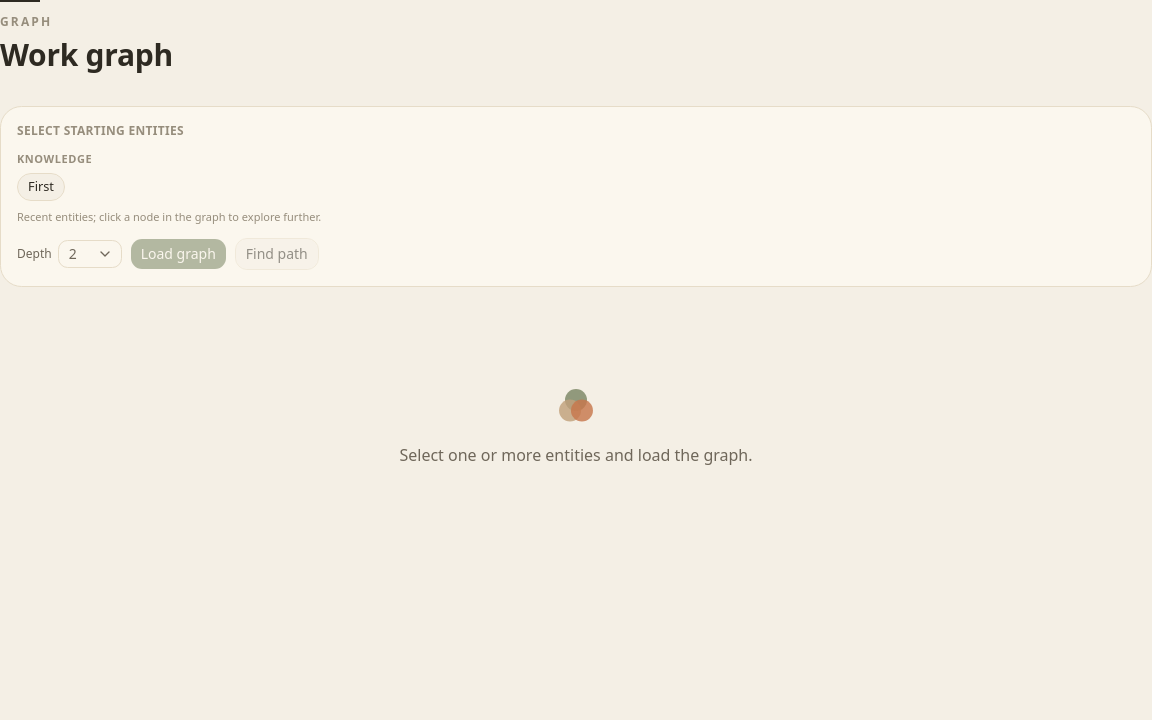
Scenario: Graph › renders the accessible neighbor table with node titles, not raw ids
Click the button "First": (41, 187) top-left (17, 173), bottom-right (65, 201)
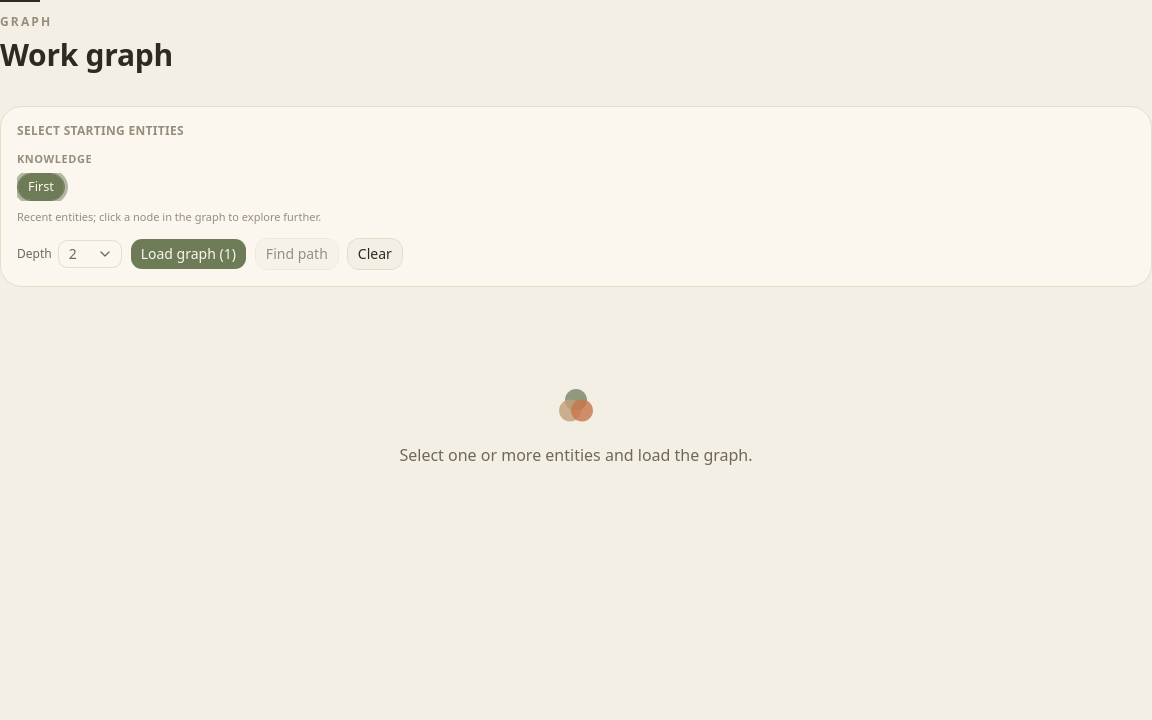
Click the button "Load graph (1)": (188, 254) top-left (130, 238), bottom-right (247, 270)
(page scrolled)
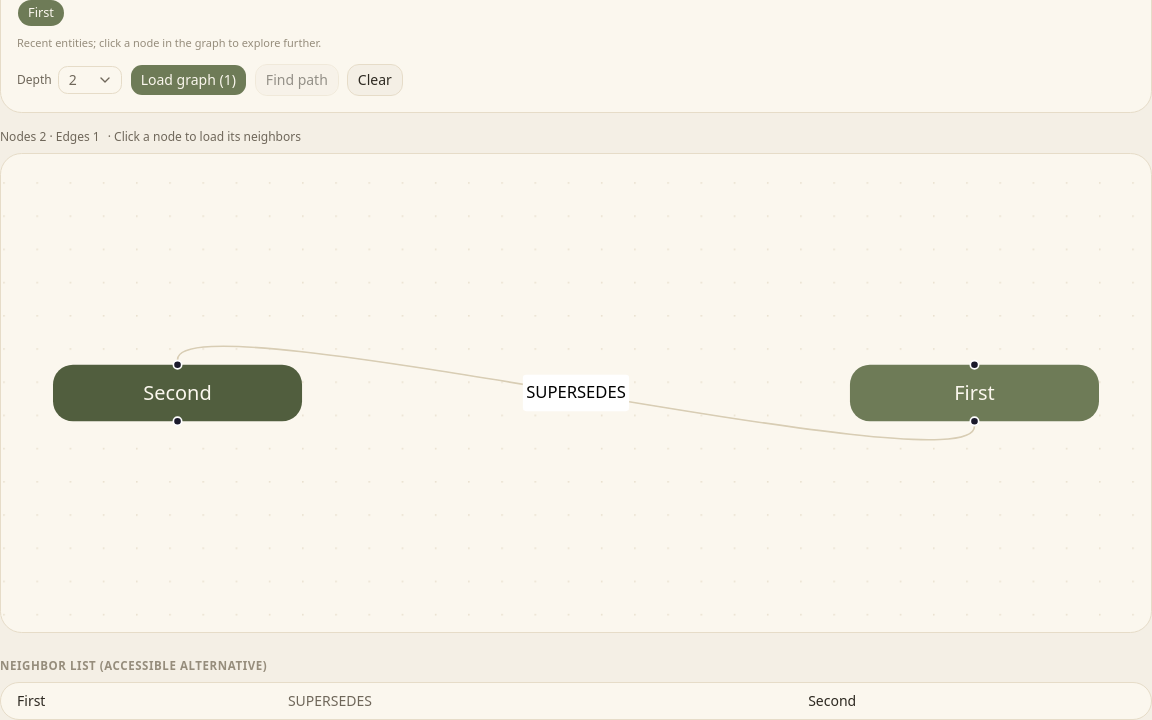
Result: the row shows "SUPERSEDES" at top-left (288, 691), bottom-right (372, 710)
Result: the row shows "Second" at top-left (808, 691), bottom-right (856, 710)
